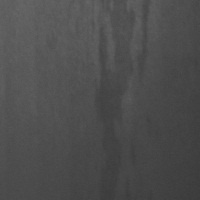inclusion: (92, 1, 145, 195), (128, 1, 158, 90)
